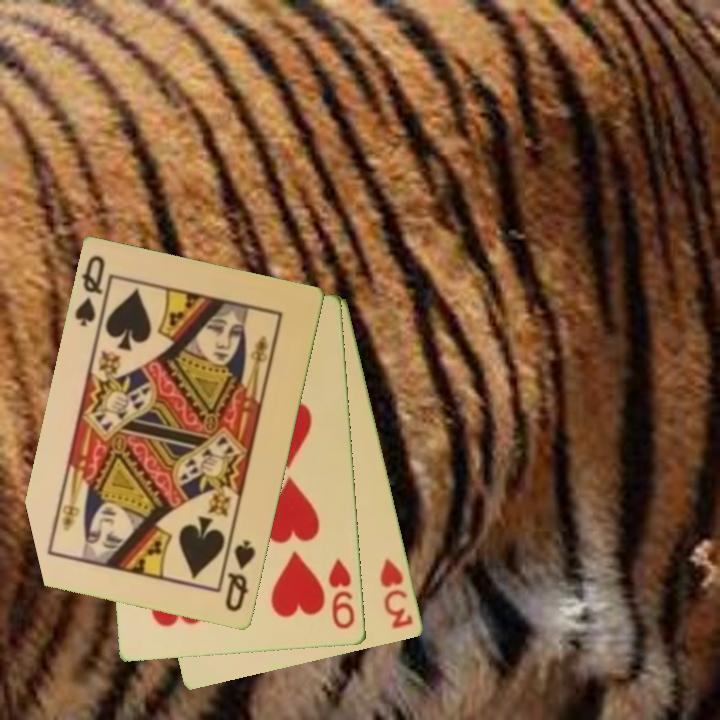3h: (376, 555, 416, 632)
9h: (325, 556, 358, 632)
Qs: (71, 252, 109, 331), (222, 537, 259, 615)
